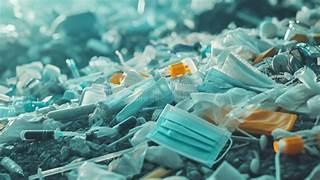Mask: (148, 105, 230, 165), (116, 78, 173, 121)
